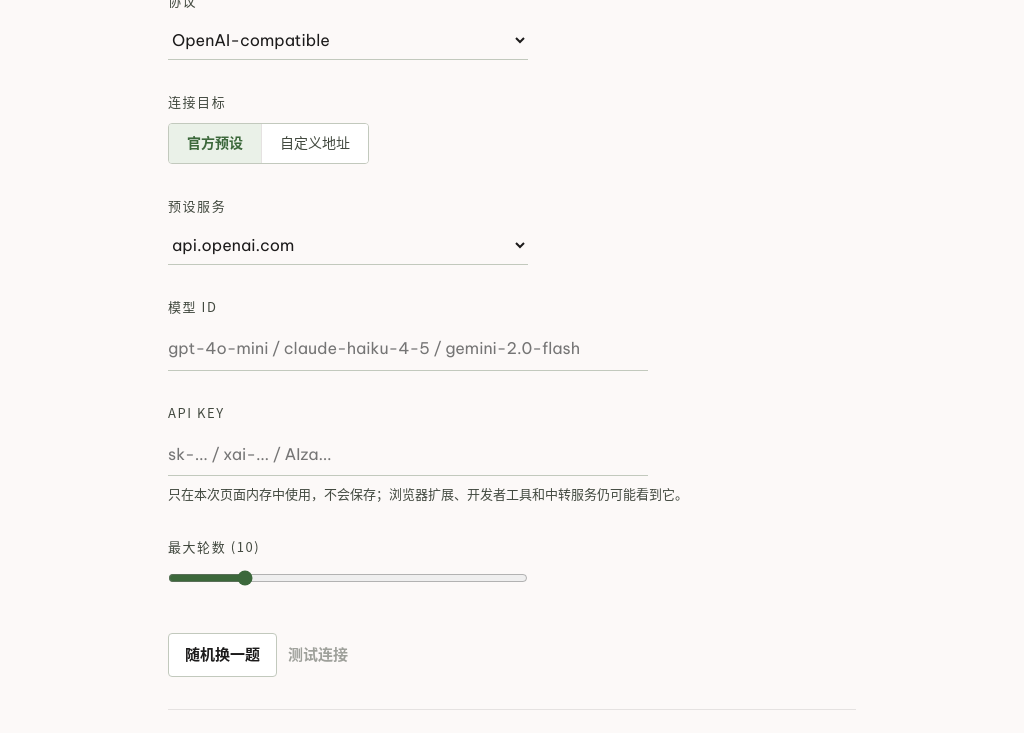
Test: AI 试炼场页面 · 注入非空题池 › 切换到自定义地址后清空同意勾选并显示 Base URL 输入
The image size is (1024, 733).
(page scrolled)
Step 1. Type "gpt-4o-mini" into the field labelled "模型 ID" → [408, 349], box [168,328,648,371]
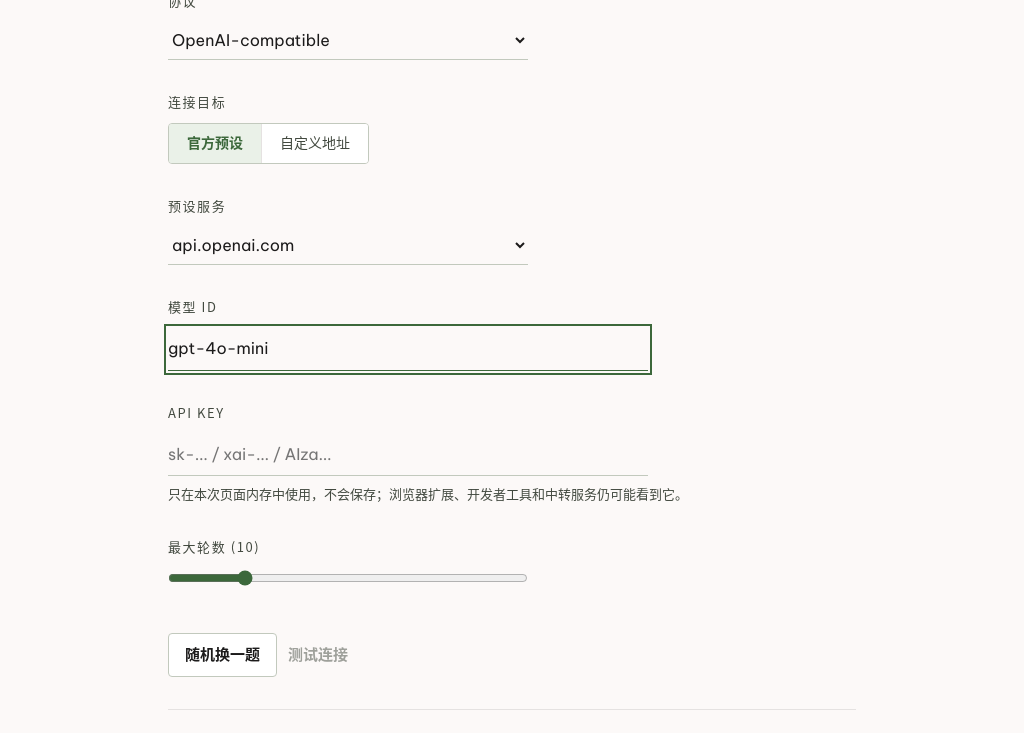
Step 2. Type "sk-page-sentinel-must-never-persist" into the password field labelled "API Key" → [408, 455], box [168,434,648,476]
(page scrolled)
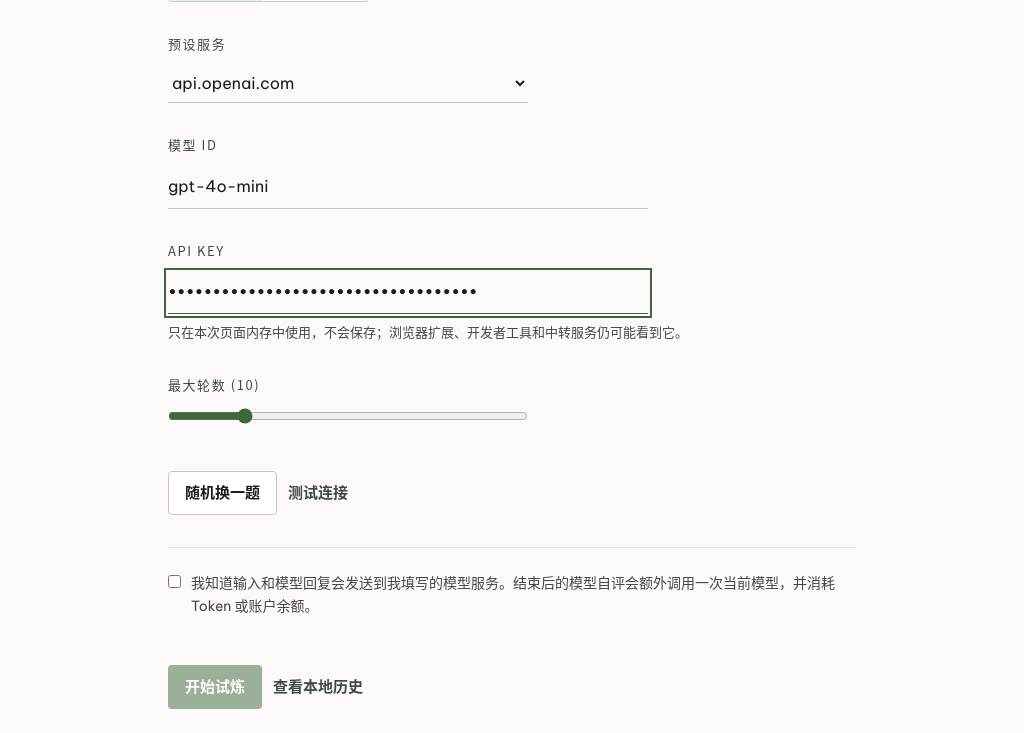
Step 3. Click the checkbox labelled "我知道输入和模型回复会发送到我填写的模型服务。结束后的模型自评会额外调用一次当前模型，并消耗 Token 或账户余额。" → [174, 582], box [168,575,181,588]
(page scrolled)
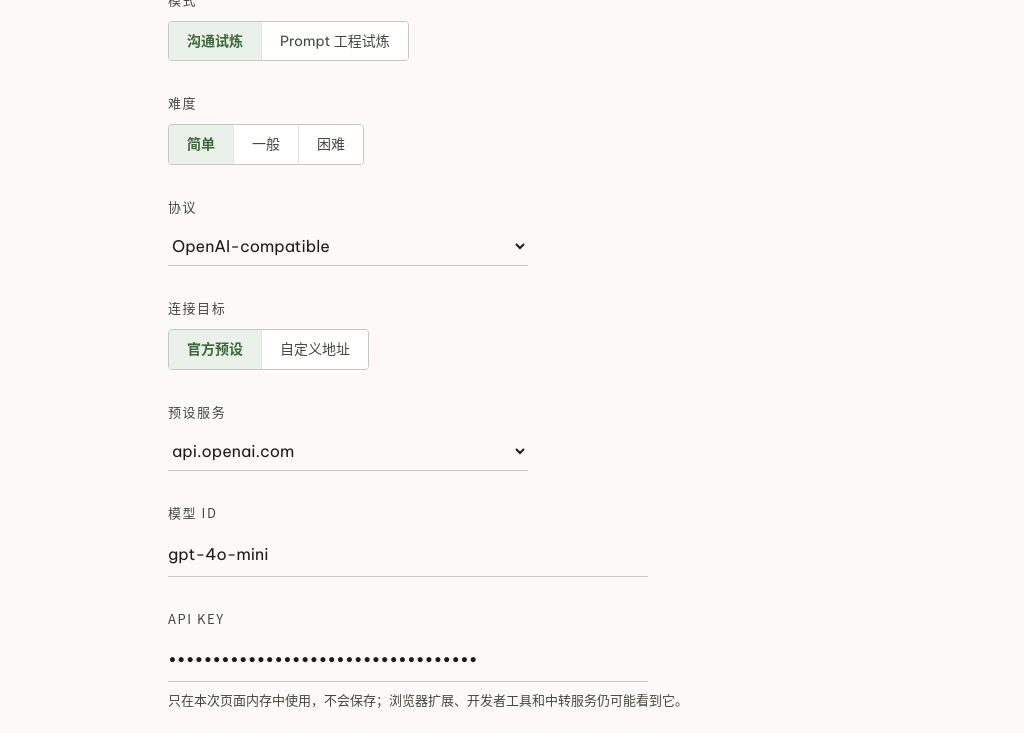
Step 4. Click the button "自定义地址" → [315, 349], box [262,330,368,369]
(page scrolled)
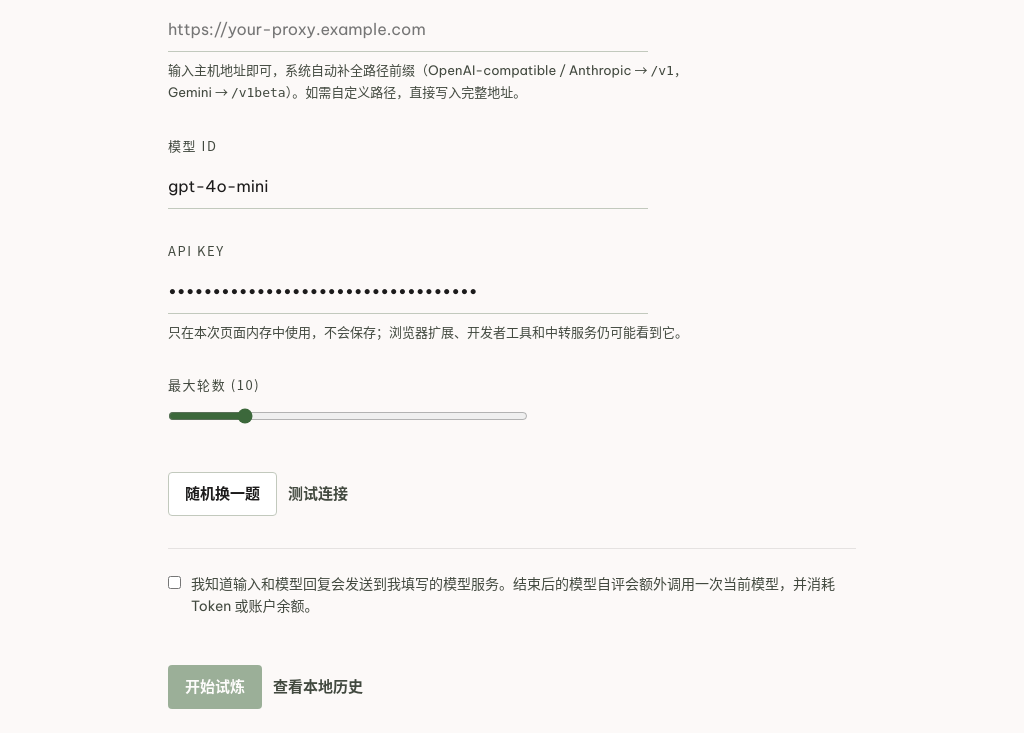
Expected: the checkbox labelled "我知道输入和模型回复会发送到我填写的模型服务。结束后的模型自评会额外调用一次当前模型，并消耗 Token 或账户余额。" is not checked, [168,576,181,588]
Expected: the field labelled "Base URL (HTTPS)" is shown, [168,9,648,52]
